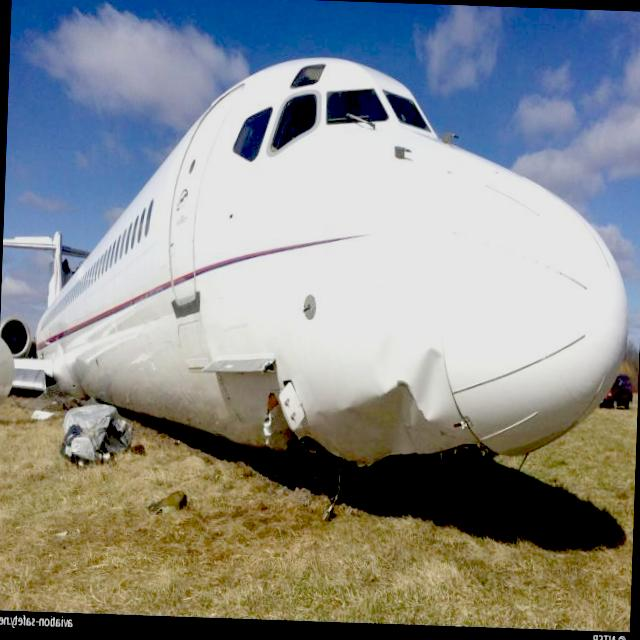dent: (409, 342, 446, 420), (372, 336, 401, 393)
